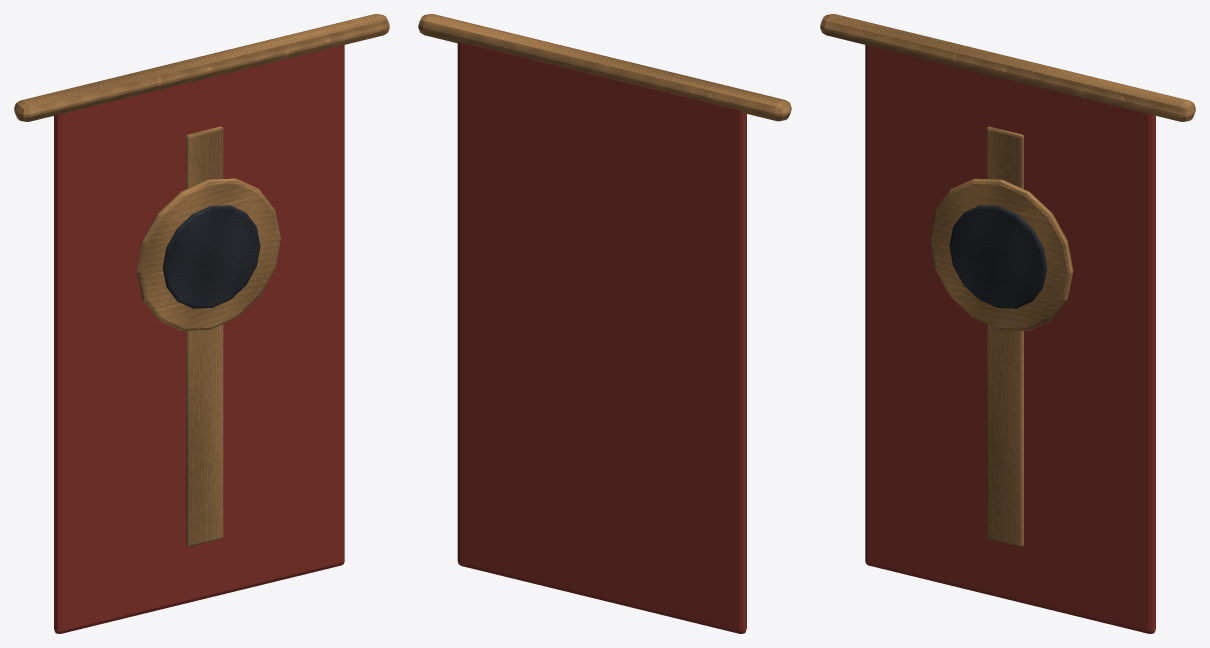
The model's file is banner.glb.
3 views of the same model, side by side, from view 1: azimuth 30°, elevation 25°; view 2: azimuth 150°, elevation 25°; view 3: azimuth 330°, elevation 25° (orthographic).
Parts seen in each view (by area): view 1: banner; view 2: banner; view 3: banner.
Part boxes in pixels (x1=…): banner: x1=14, y1=14, x2=389, y2=633; banner: x1=418, y1=14, x2=791, y2=633; banner: x1=820, y1=14, x2=1195, y2=633.
Bounding box in the file's own units: 1.6 × 2.24 × 0.127.
Materials: 3 (2 with a texture image).
